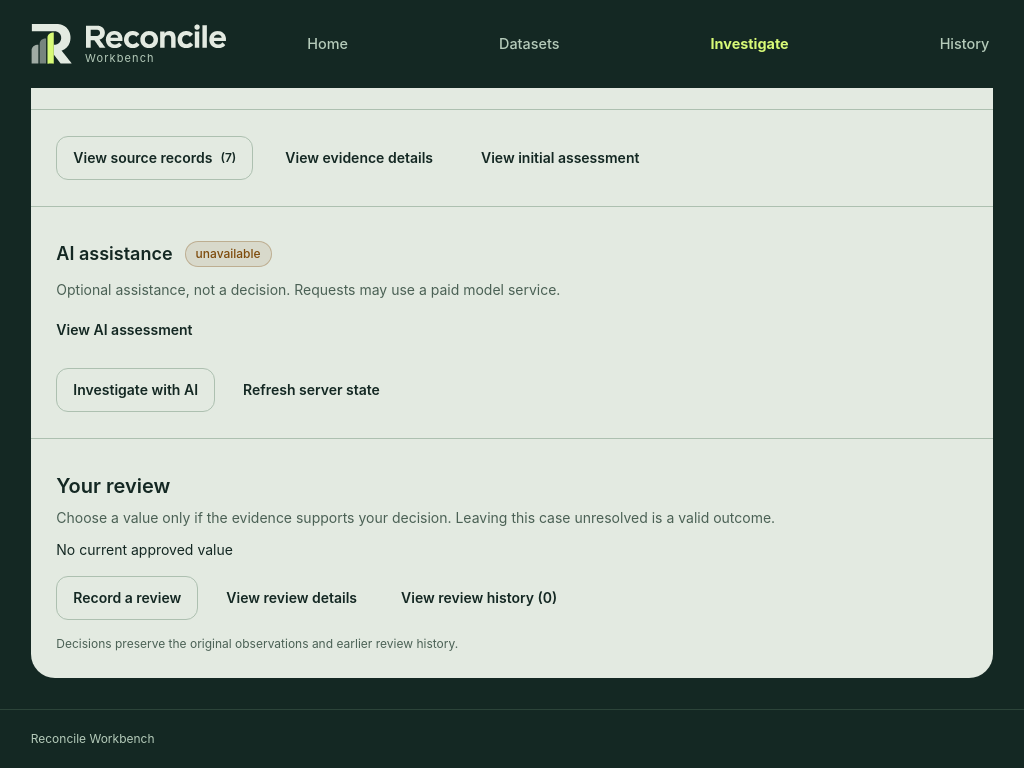
keeps AI unavailable distinct and prevents accepting it
(page scrolled)
Expected: the heading "Your review" is shown, [56,474,170,498]
Click the button "Record a review" at coordinates (127, 598), box [56,576,198,620]
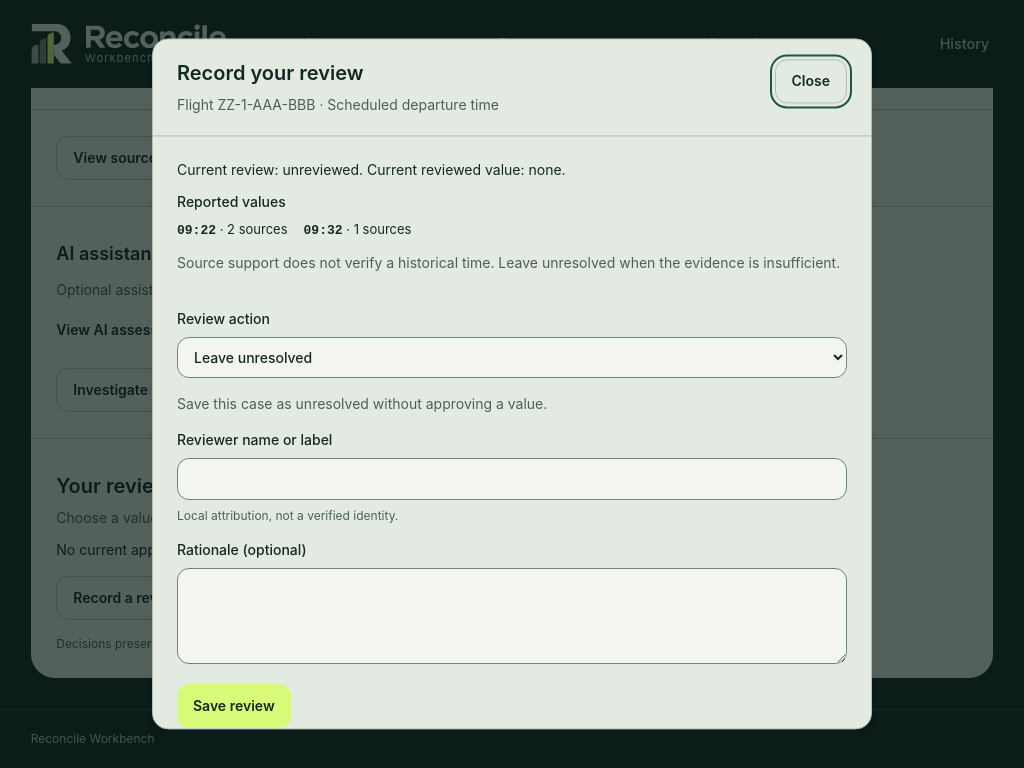
Expected: the text "unavailable" is shown, [185,241,272,267]
Expected: the button "Save review" is enabled, [177,684,291,728]
